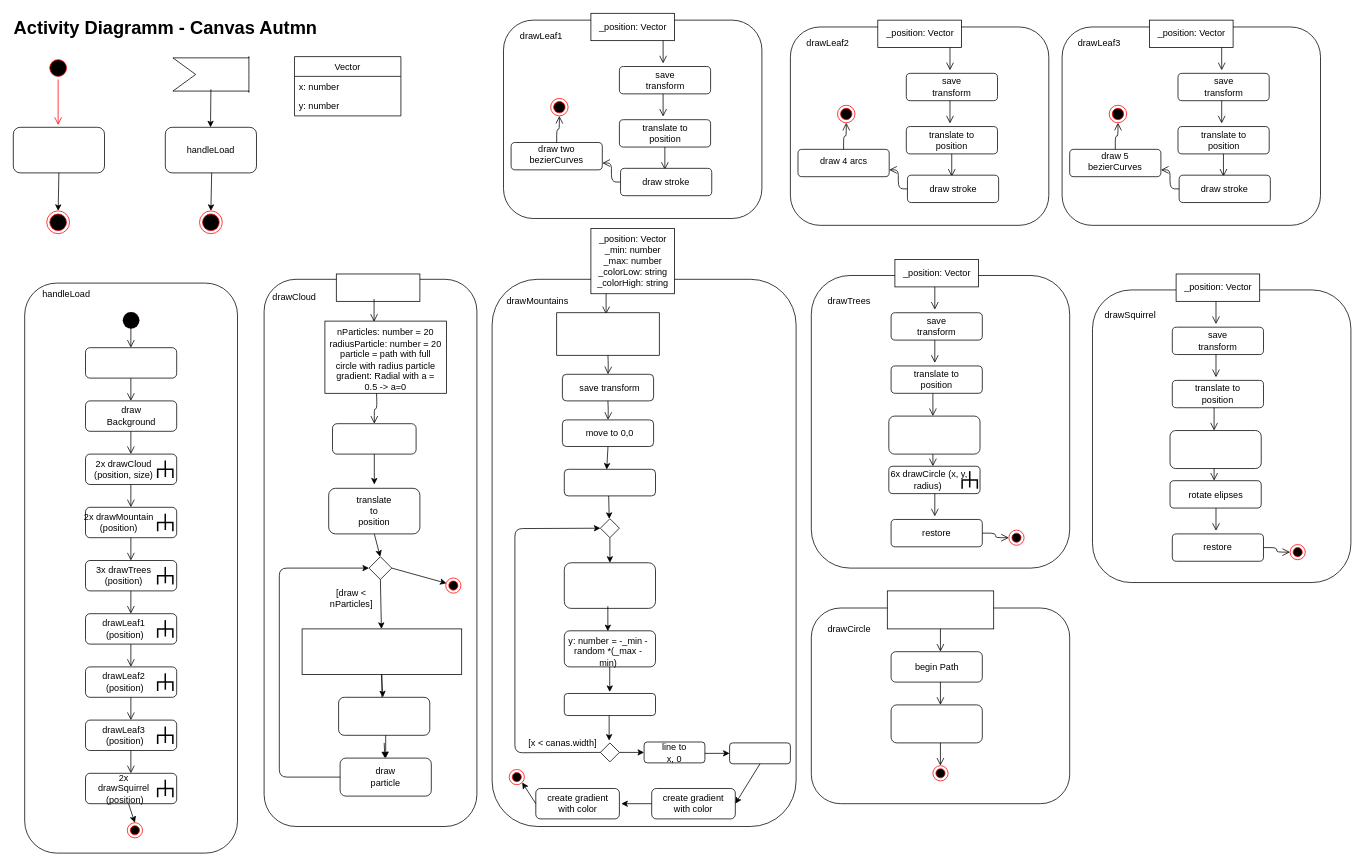
This 1364x866 diagram has some shape labels left out. Each missing label, with the centre of its shape:
_position: Vector _size: Vector: pixel 378 287
_x: number _y: number radius: number: pixel 940 609
closePath: pixel 759 753
draw arc with parameters _x, _y, _radius: pixel 936 723
draw elipses: pixel 1215 449
draw the trunk: fill rect fill style brown: pixel 934 434
get Rendering Context: pixel 131 362
install load listener: pixel 58 150
line to 0, -_max: pixel 610 482
line to x, y: pixel 610 704
load: pixel 210 74
setTransform: pixel 374 438
stepMin: number = 10 stepMax: number = 50 x: number = 0: pixel 607 333
translate to x, y: pixel 384 716
x += random between stepMin and stepMax: pixel 610 585
x: number = (random - 0.5) * _size.x y: number = (- random) * _size.y: pixel 381 651
